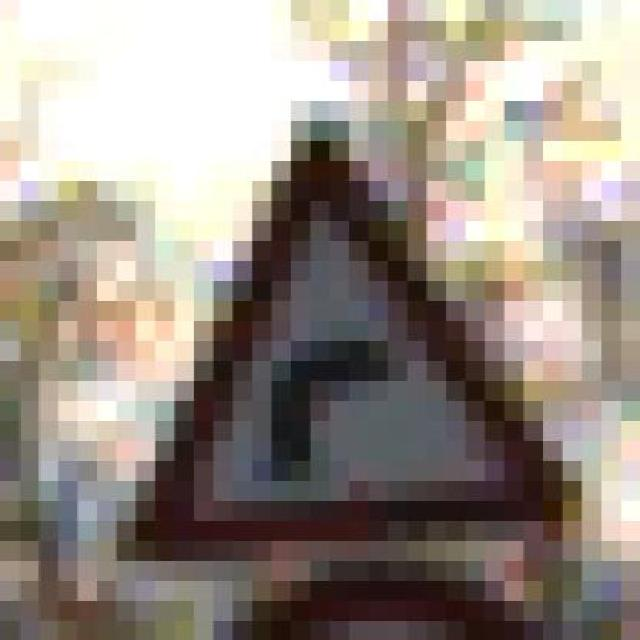Dangerous Rright Curve Ahead: (77, 100, 601, 560)
